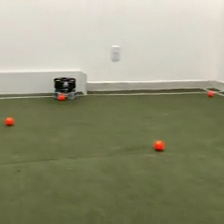ball: (153, 138, 165, 151), (4, 115, 14, 126), (206, 88, 214, 97), (57, 93, 66, 101)
goal: (1, 69, 89, 96)
robot: (53, 76, 77, 99)
